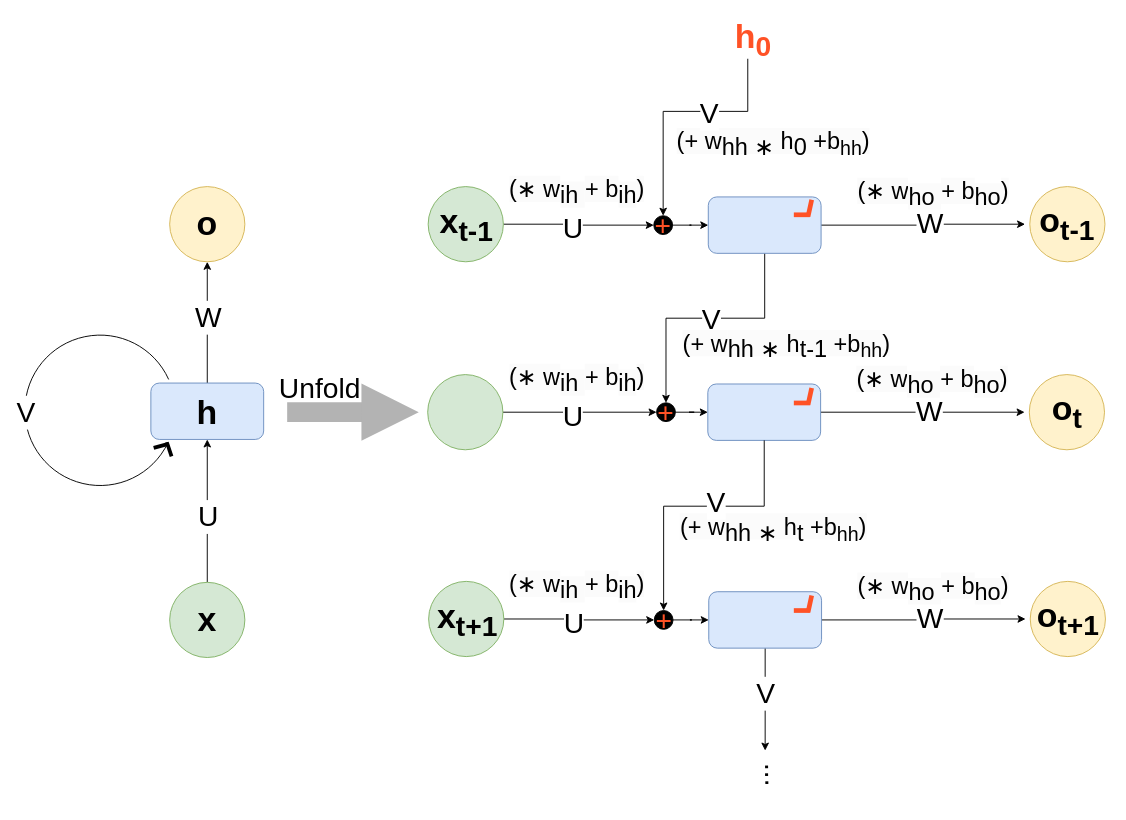
This 1126x820 diagram has some shape labels left out. Here are the shapes that lost their labels. From the top down, the centre of each, then its label:
At (764,224): "h t-1".
At (465,412): "x t".
At (764,411): "h t".
At (765,619): "h t+1".
